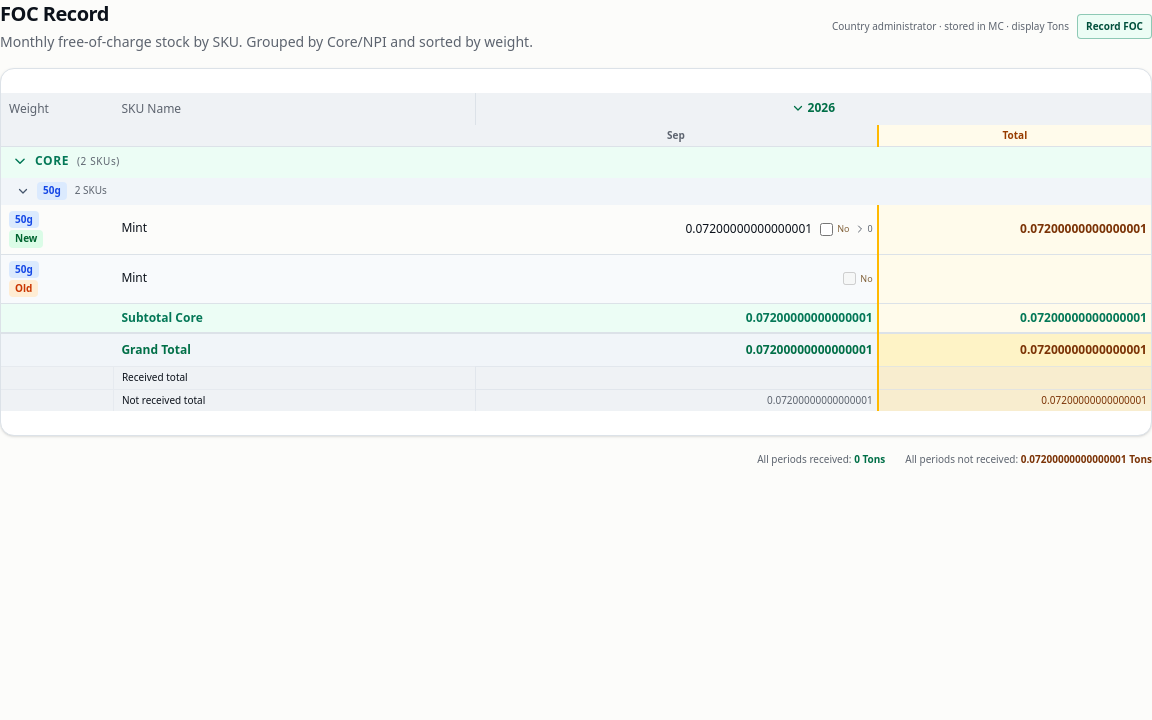
Scenario: separate FOC Record › previews and confirms displayed Tons edits as MC, never writing paid data
Later steps or results of the test are not shown.
Click the button "0.07200000000000001". click: click(749, 229)
box: [681,221,816,237]
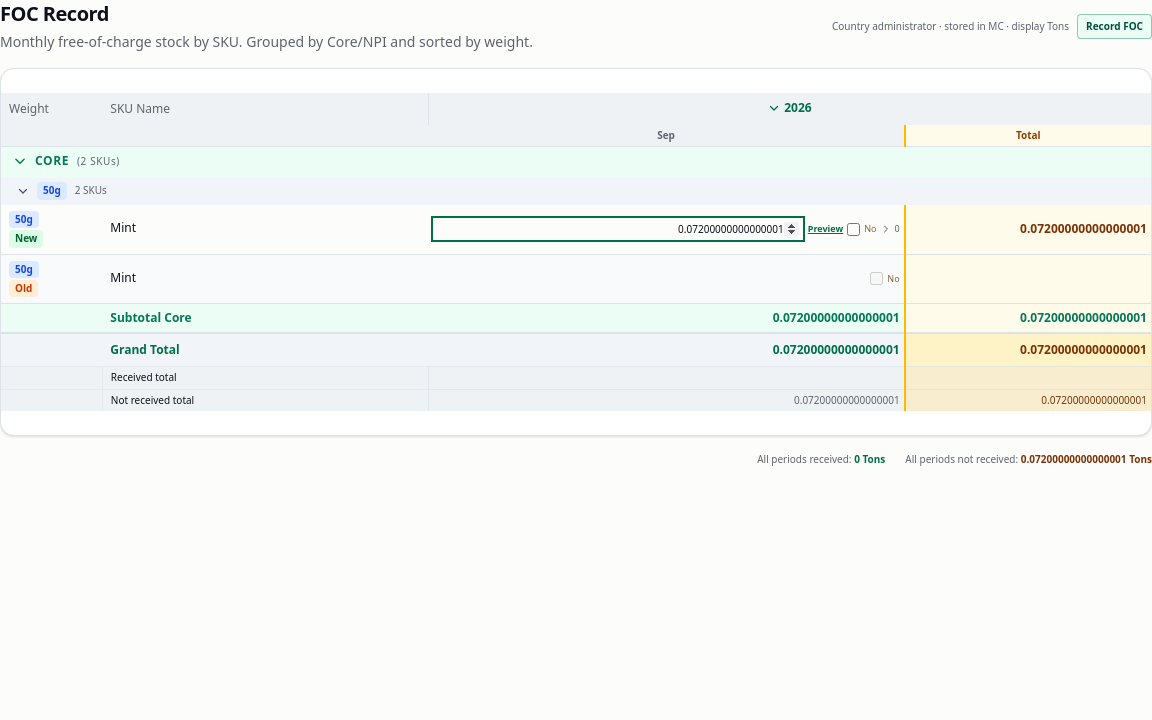
Replace the text in the number field with "0.12". click: (618, 229)
box: [432,217,804,241]
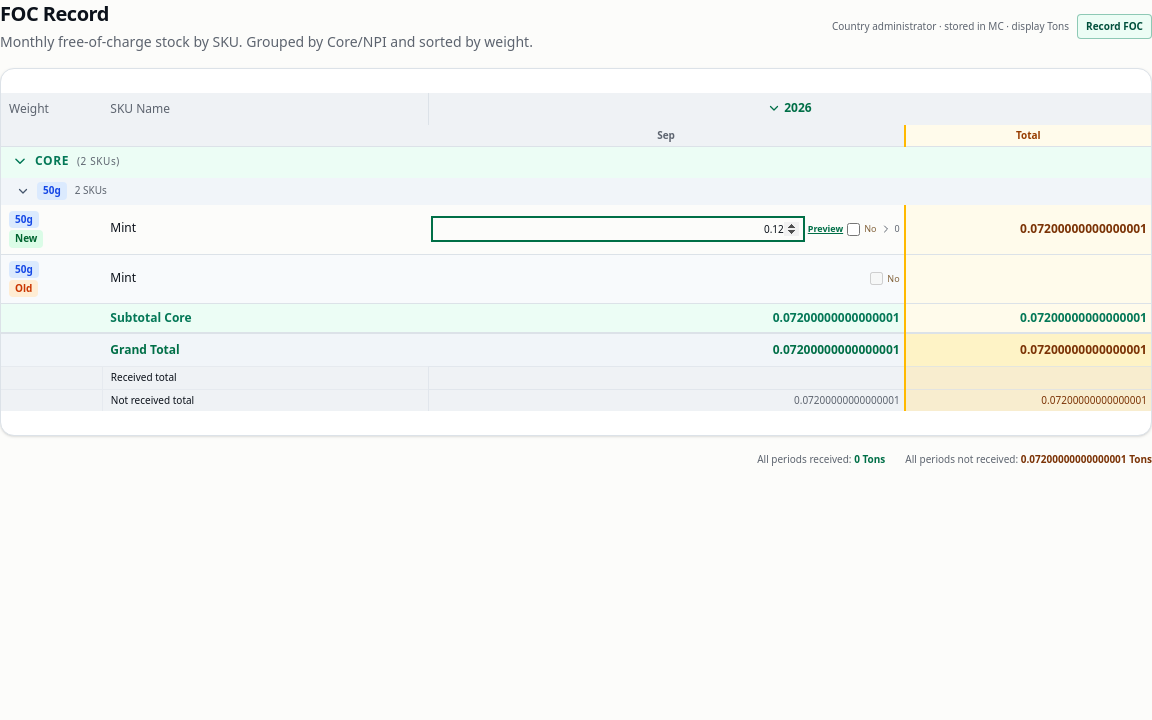
Press Enter in the number field, box [432,217,804,241]
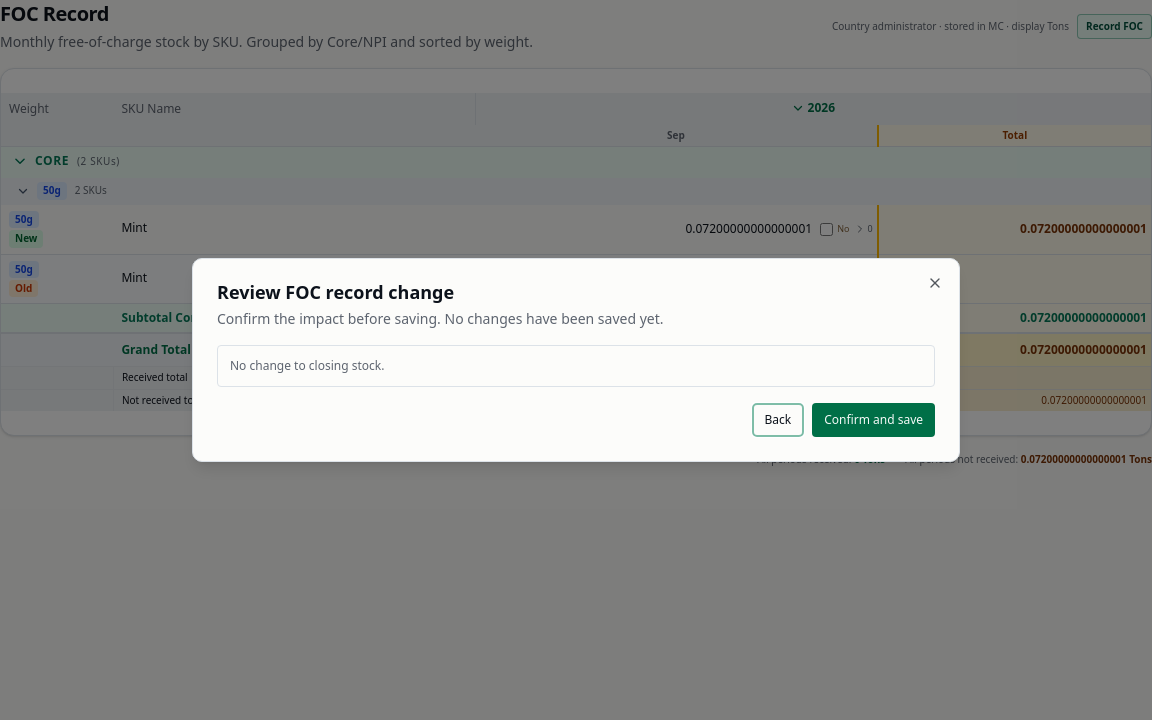
Expected: the button "Confirm and save" is shown, [812,403,935,437]
